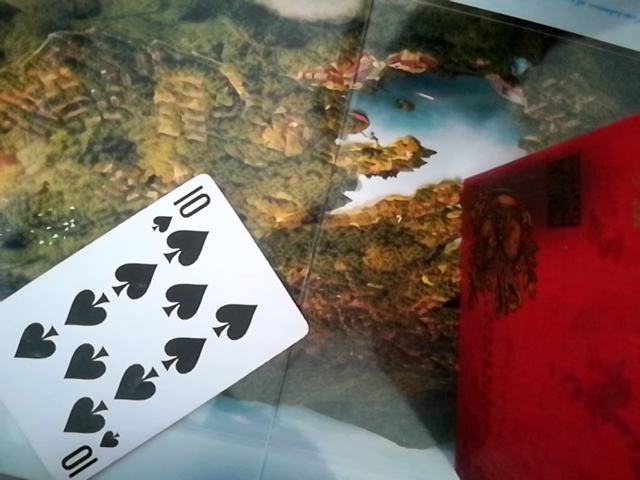ht 10: (1, 172, 312, 480)
